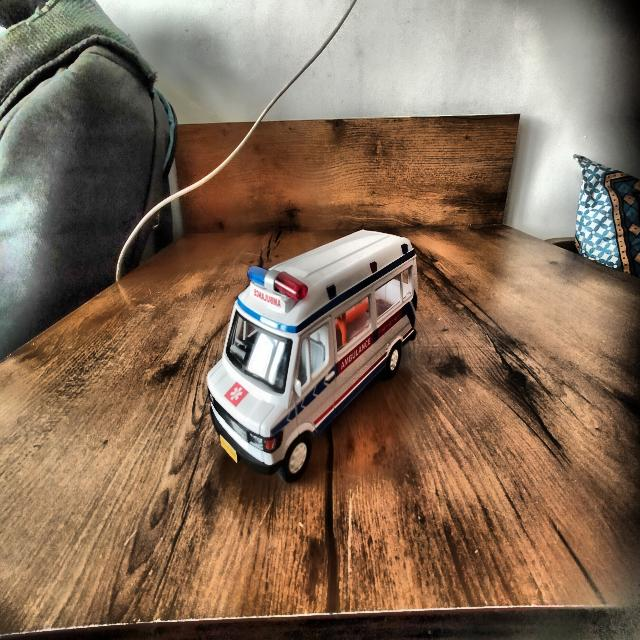Ambulance: (207, 230, 417, 477)
